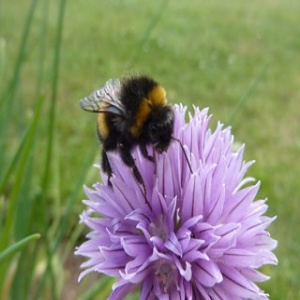bee: (89, 70, 178, 179)
